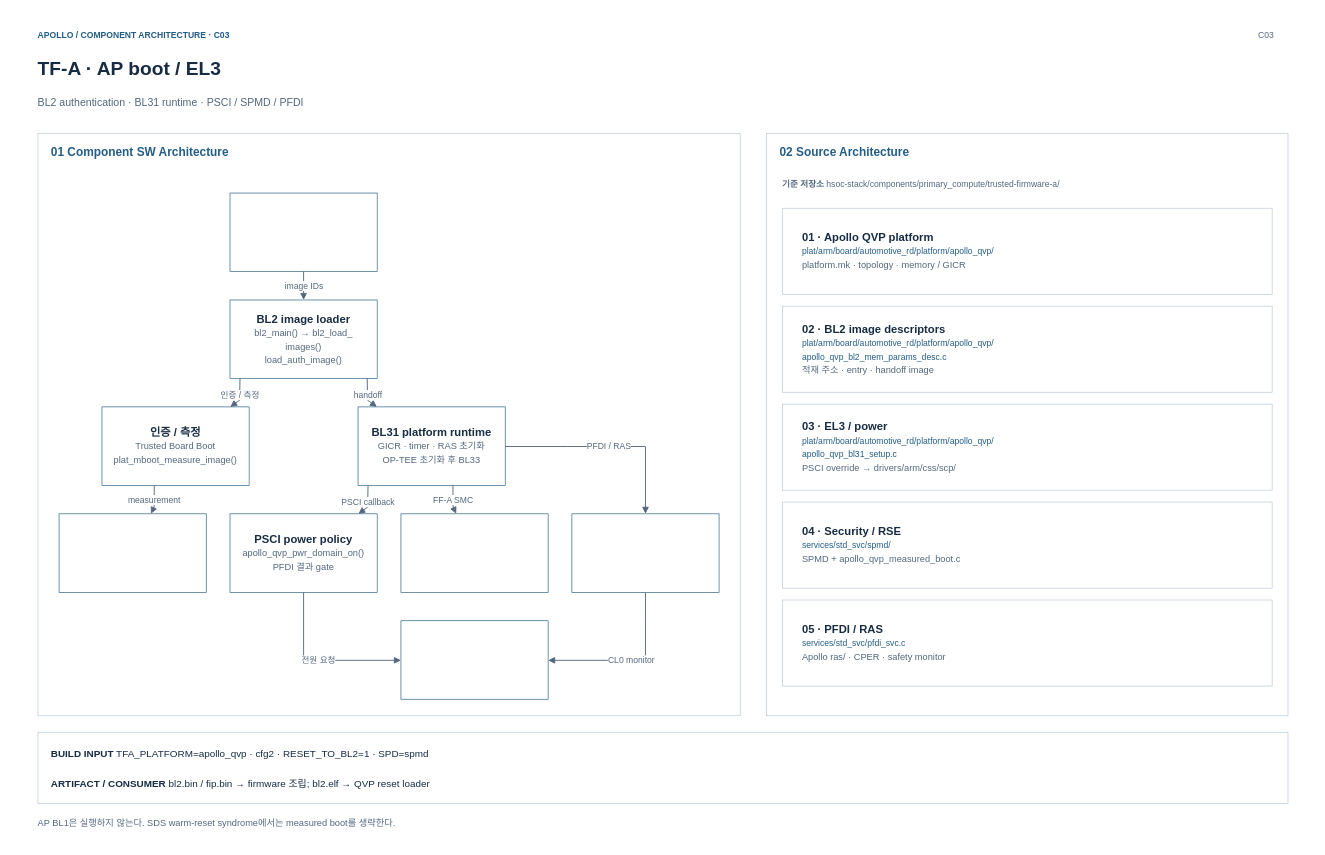
Some shapes in this 1325 by 855 pixel diagram are drawn without their labels. The box of each missing label's shape, as (x1, y1, x2, y2) in pixels:
FF-A SPMD spmd_ smc_ handler() OP-TEE S-EL1 SPMC로 전달: (400, 513, 548, 592)
FIP / dynamic config BL31 · BL32 · BL33 FW / HW / TOS config: (229, 192, 377, 272)
PFDI / RAS pfdi_ smc_ handler() CPU 오류 · CPER 기록: (571, 513, 719, 592)
RSE measurement rse_ mboot_ measure_ and_ record() AP–RSE MHUv3: (58, 513, 206, 592)
SCMI / CL0 관리 css_ scp_ on() scmi_ pwr_ state_ set(): (400, 620, 548, 699)
